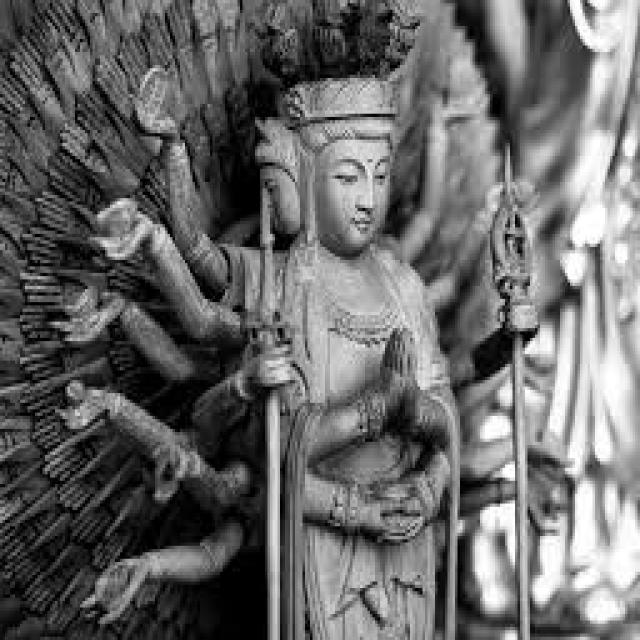Guan Yin: (271, 68, 429, 416)
